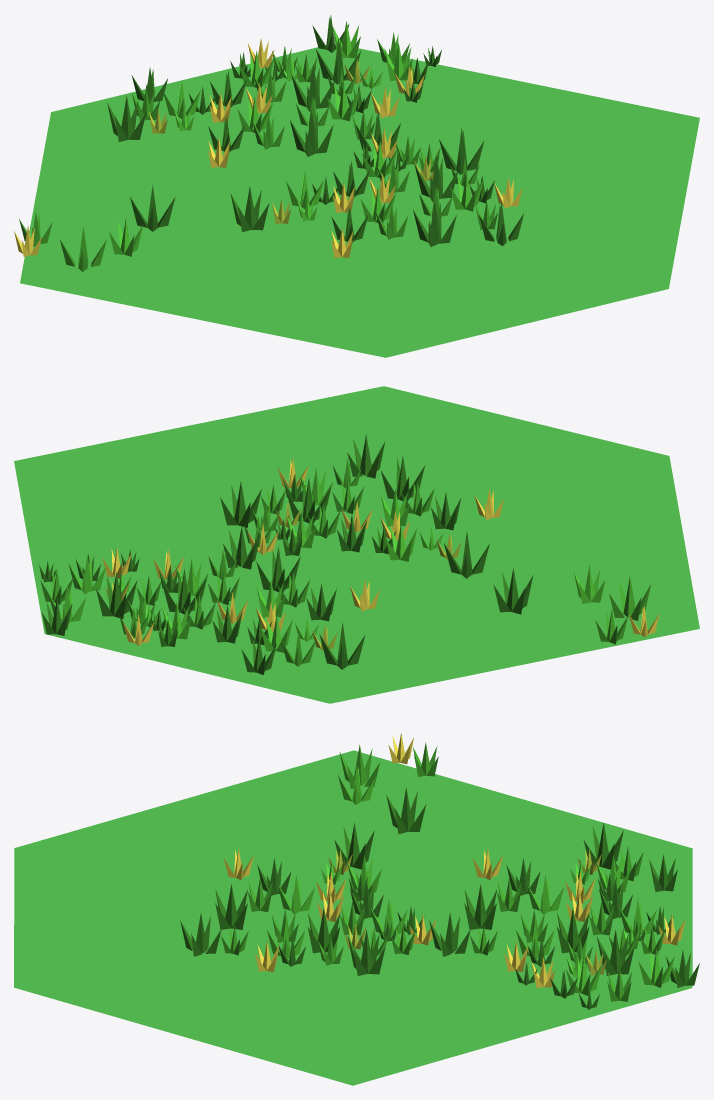
Rendered from FarmLand.glb.
3 views of the same model, one above another, from view 1: azimuth 30°, elevation 25°; view 2: azimuth 150°, elevation 25°; view 3: azimuth 270°, elevation 25° (orthographic).
Visible parts, largest first — view 1: Cube.065; view 2: Cube.065; view 3: Cube.065.
Part boxes in pixels (left/top/right/bottom): Cube.065: left=14, top=15, right=699, bottom=357; Cube.065: left=14, top=386, right=699, bottom=703; Cube.065: left=14, top=733, right=699, bottom=1085.
Size of the model in its own units: 69.5 by 4.53 by 60.08.
